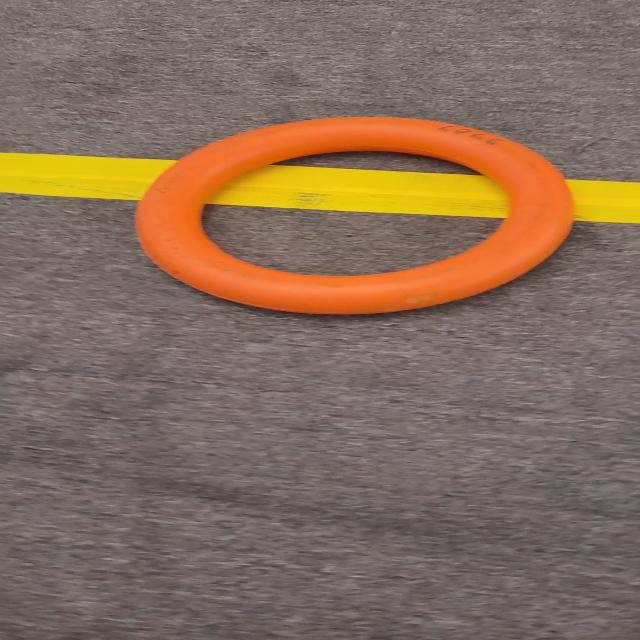note: (130, 113, 579, 330)
